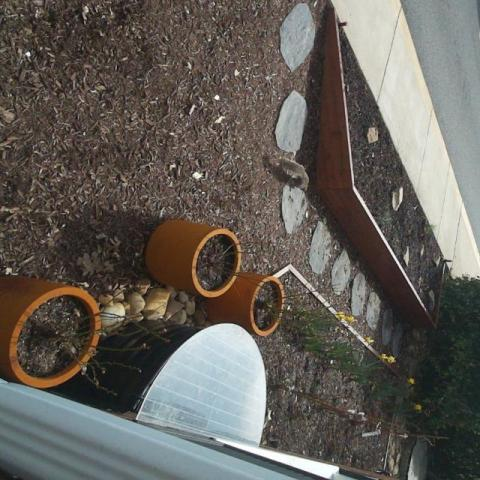small_animal: (276, 155, 311, 194)
